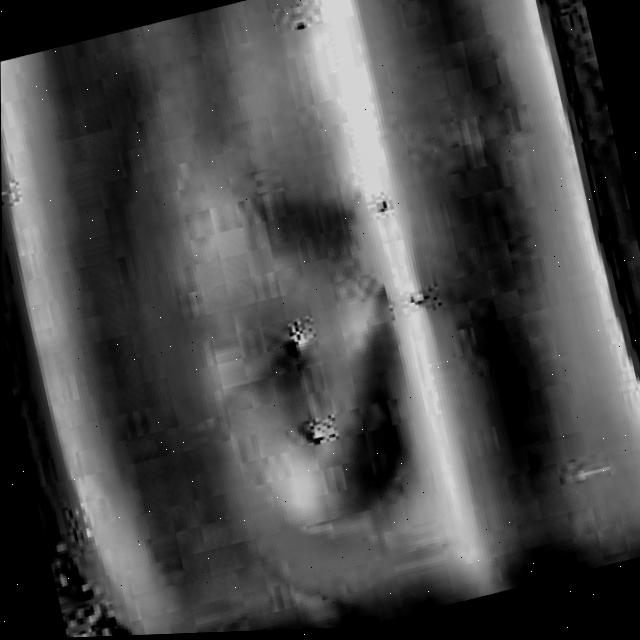bumper_dent: (163, 185, 438, 561)
